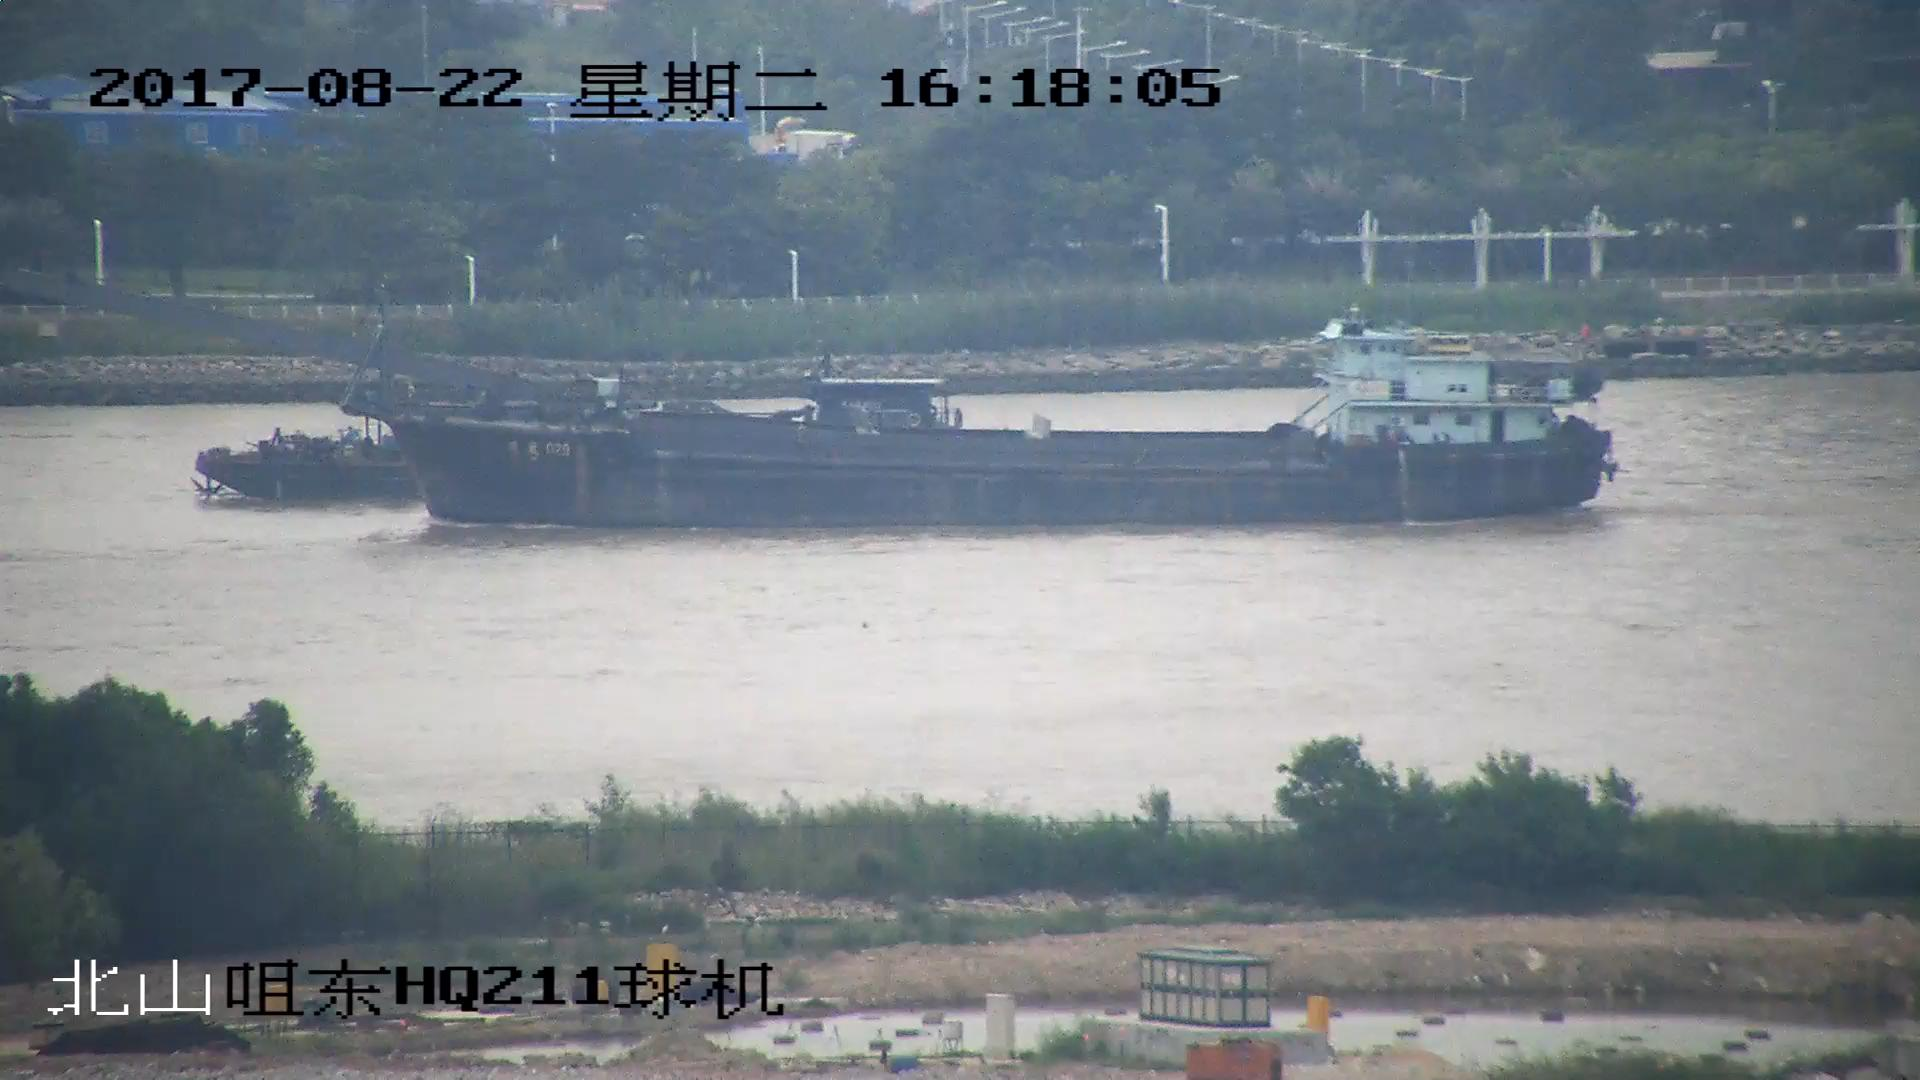bulk cargo carrier: (1, 267, 1615, 527), (195, 376, 968, 505)
